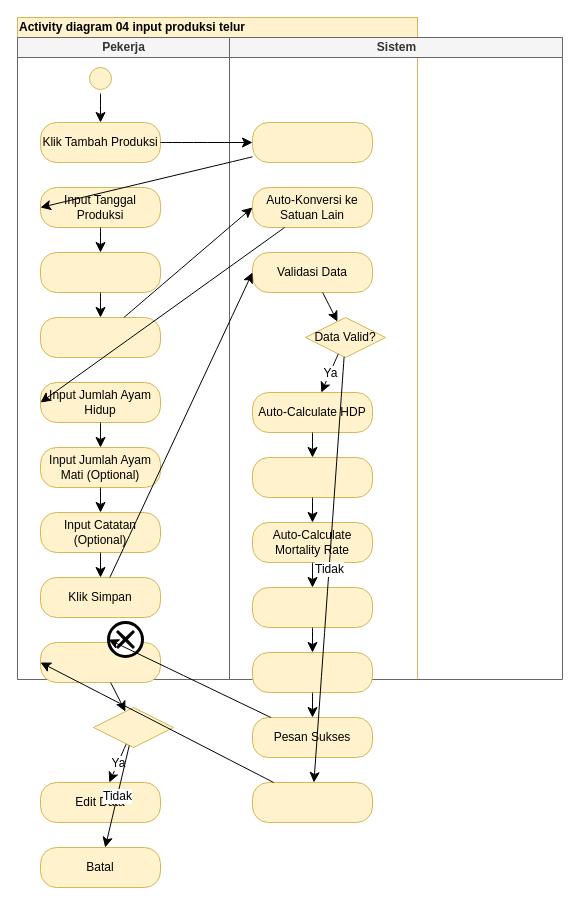
Some shapes in this 580 by 905 pixel diagram are drawn without their labels. Each missing label, with the centre of its shape:
"Auto-Calculate HHP" belongs at pixel 312 477.
"Data Form Tetap Diisi" belongs at pixel 100 662.
"Edit & Retry?" belongs at pixel 133 727.
"Input Jumlah Produksi" belongs at pixel 100 337.
"Pilih Satuan (Butir/KG)" belongs at pixel 100 272.
"Simpan Produksi ke DB" belongs at pixel 312 607.
"Tampilkan Error Message" belongs at pixel 312 802.
"Tampilkan Form Input Produksi" belongs at pixel 312 142.
"Update Stok Telur Real-Time" belongs at pixel 312 672.
